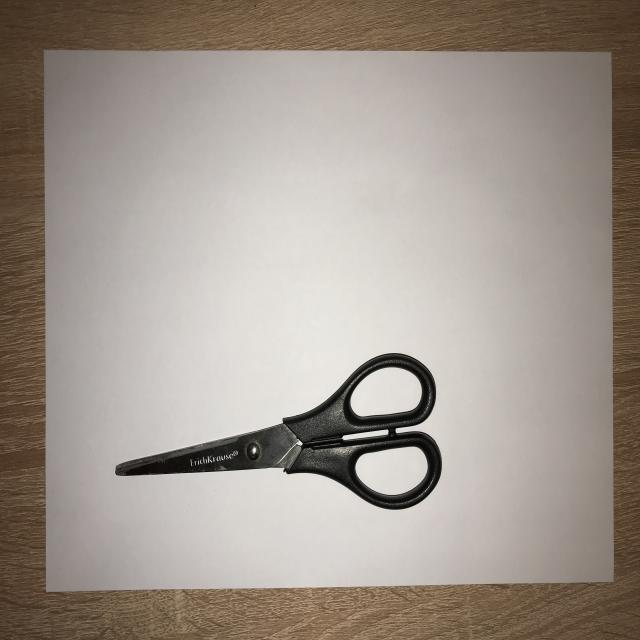scissors: (109, 340, 449, 519)
